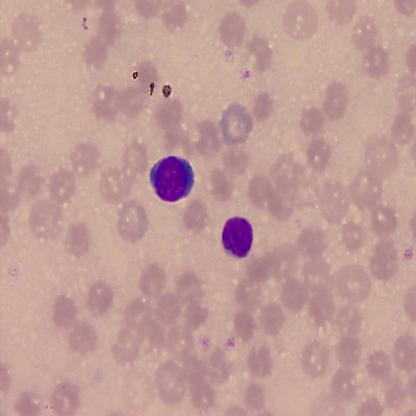Lymphocyte: (149, 152, 195, 204), (221, 216, 254, 260)
